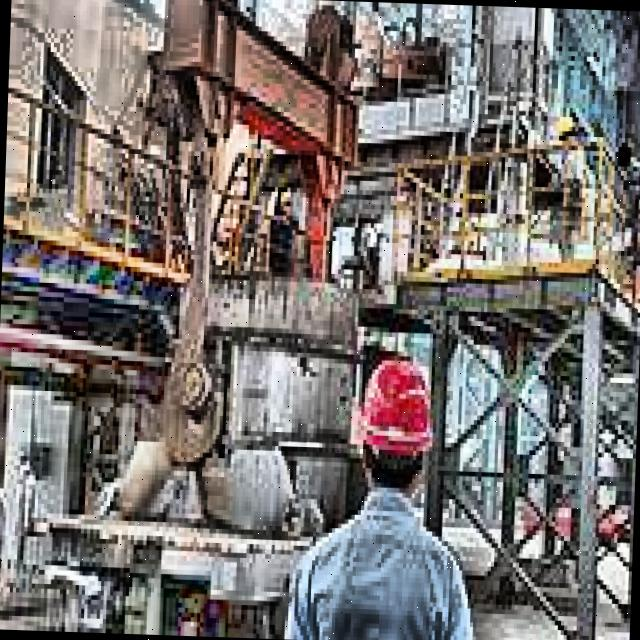helmet: (355, 354, 441, 494), (552, 107, 582, 141)
